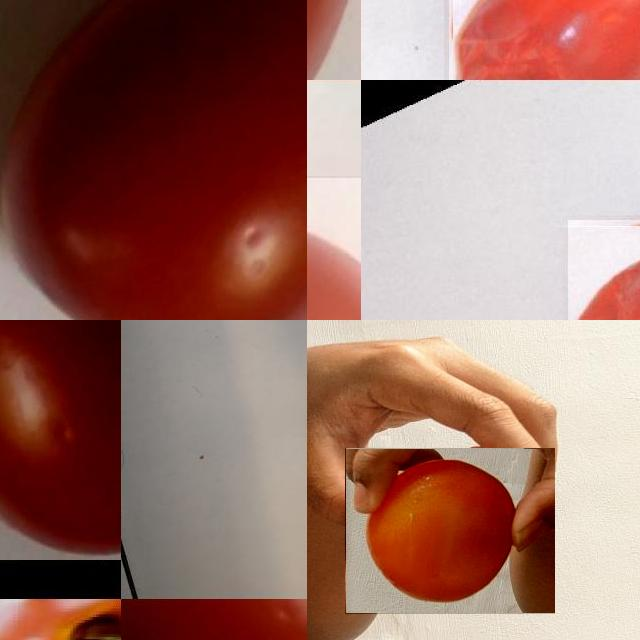0: (0, 0, 307, 320)
Fresh Tomato: (345, 448, 555, 614), (0, 320, 121, 560)
Rotten Tomato: (448, 0, 640, 80), (568, 220, 640, 320)
